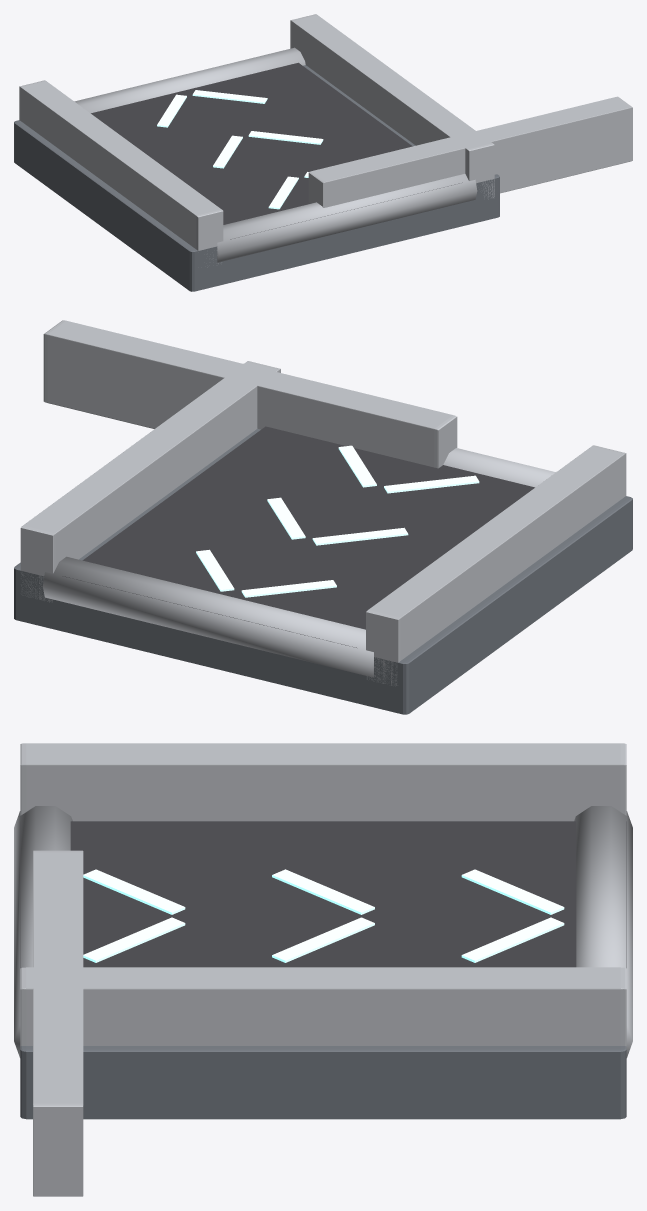
The model's file is belt_turn.glb.
The picture shows the model from 3 angles, top to bottom: view 1: azimuth 30°, elevation 25°; view 2: azimuth 150°, elevation 25°; view 3: azimuth 270°, elevation 25°; orthographic projection. The views are drawn at different scales.
Parts seen in each view (by area): view 1: surface, frame, corner_wall, rail_l, rail_r, roller, roller.001, arrow1b, arrow2b, arrow0, arrow2, arrow1; view 2: surface, frame, corner_wall, rail_l, rail_r, roller.001, roller, arrow0, arrow1, arrow2, arrow0b, arrow1b (+1 smaller); view 3: surface, rail_l, rail_r, frame, corner_wall, roller.001, roller, arrow2b, arrow1, arrow1b, arrow2, arrow0b (+1 smaller).
Boxes of the visible parts, bbox=[...] form: surface: bbox=[91, 62, 462, 239]; frame: bbox=[14, 65, 499, 291]; corner_wall: bbox=[308, 96, 632, 207]; rail_l: bbox=[19, 80, 223, 267]; rail_r: bbox=[290, 14, 494, 199]; roller: bbox=[217, 174, 477, 262]; roller.001: bbox=[74, 47, 305, 113]; arrow1b: bbox=[248, 131, 323, 144]; arrow2b: bbox=[192, 90, 267, 103]; arrow0: bbox=[268, 176, 298, 209]; arrow2: bbox=[157, 94, 186, 127]; arrow1: bbox=[213, 135, 242, 168]; surface: bbox=[62, 426, 534, 647]; frame: bbox=[14, 428, 632, 714]; corner_wall: bbox=[43, 320, 457, 468]; rail_l: bbox=[366, 445, 626, 686]; rail_r: bbox=[20, 361, 280, 602]; roller.001: bbox=[42, 556, 373, 677]; roller: bbox=[443, 448, 555, 487]; arrow0: bbox=[384, 475, 479, 493]; arrow1: bbox=[312, 527, 408, 545]; arrow2: bbox=[241, 580, 336, 597]; arrow0b: bbox=[338, 445, 376, 487]; arrow1b: bbox=[267, 497, 305, 539]; surface: bbox=[20, 821, 626, 967]; rail_l: bbox=[20, 743, 626, 821]; rail_r: bbox=[20, 967, 626, 1046]; frame: bbox=[20, 1046, 626, 1119]; corner_wall: bbox=[33, 850, 83, 1196]; roller.001: bbox=[574, 806, 632, 1057]; roller: bbox=[14, 806, 72, 1057]; arrow2b: bbox=[461, 917, 564, 962]; arrow1: bbox=[272, 869, 374, 914]; arrow1b: bbox=[272, 917, 374, 962]; arrow2: bbox=[461, 869, 564, 914]; arrow0b: bbox=[83, 917, 185, 962].
Bounding box in the file's own units: 1.38 × 0.22 × 0.98.
